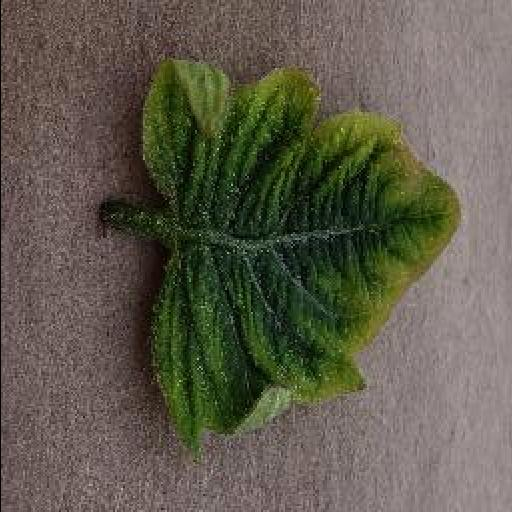disease_tomato: (140, 54, 462, 456)
